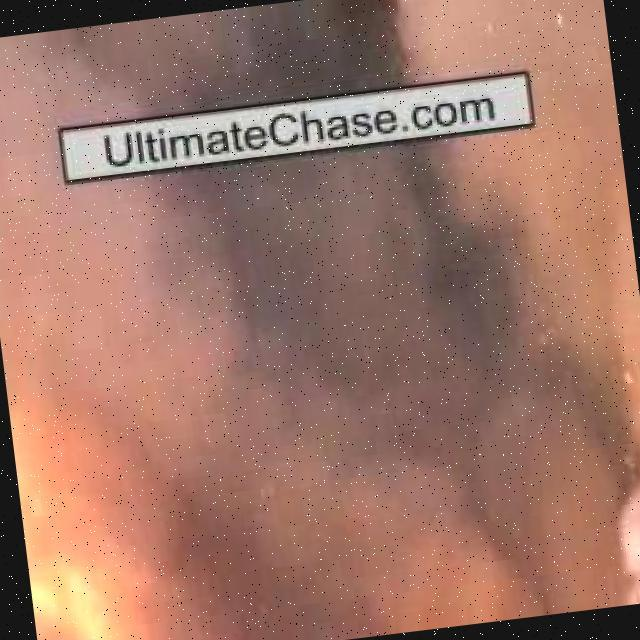Fire: (10, 408, 150, 640), (597, 345, 640, 498)
